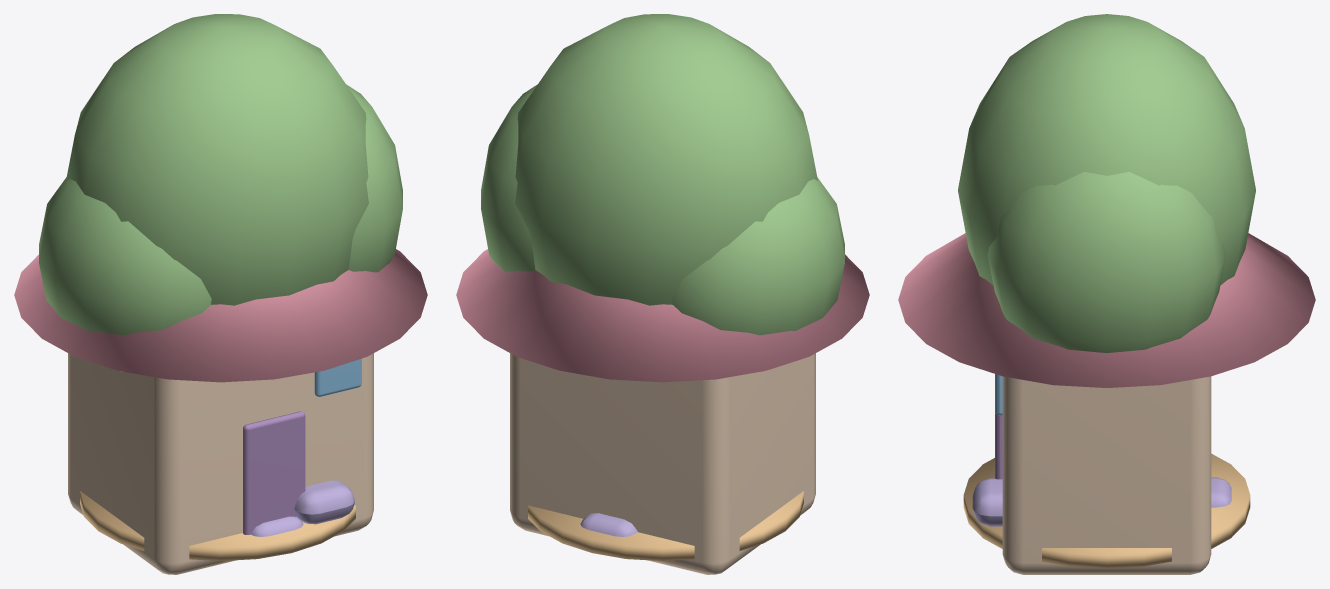
The model's file is toybox.glb.
The picture shows the model from 3 angles, left to right: view 1: azimuth 30°, elevation 25°; view 2: azimuth 150°, elevation 25°; view 3: azimuth 270°, elevation 25°; orthographic projection.
Parts seen in each view (by area): view 1: tree, house, hat, scarf; view 2: tree, house, hat, scarf; view 3: tree, house, hat, scarf.
Boxes of the visible parts, bbox=[...] form: tree: bbox=[39, 14, 402, 371]; house: bbox=[14, 249, 427, 574]; hat: bbox=[80, 491, 355, 560]; scarf: bbox=[250, 480, 354, 536]; tree: bbox=[481, 14, 844, 371]; house: bbox=[456, 249, 869, 574]; hat: bbox=[528, 491, 803, 560]; scarf: bbox=[580, 513, 637, 536]; tree: bbox=[958, 14, 1255, 352]; house: bbox=[898, 233, 1315, 574]; hat: bbox=[963, 453, 1250, 568]; scarf: bbox=[972, 477, 1231, 526].
Bounding box in the file's own units: 1.4 × 1.99 × 1.4.
